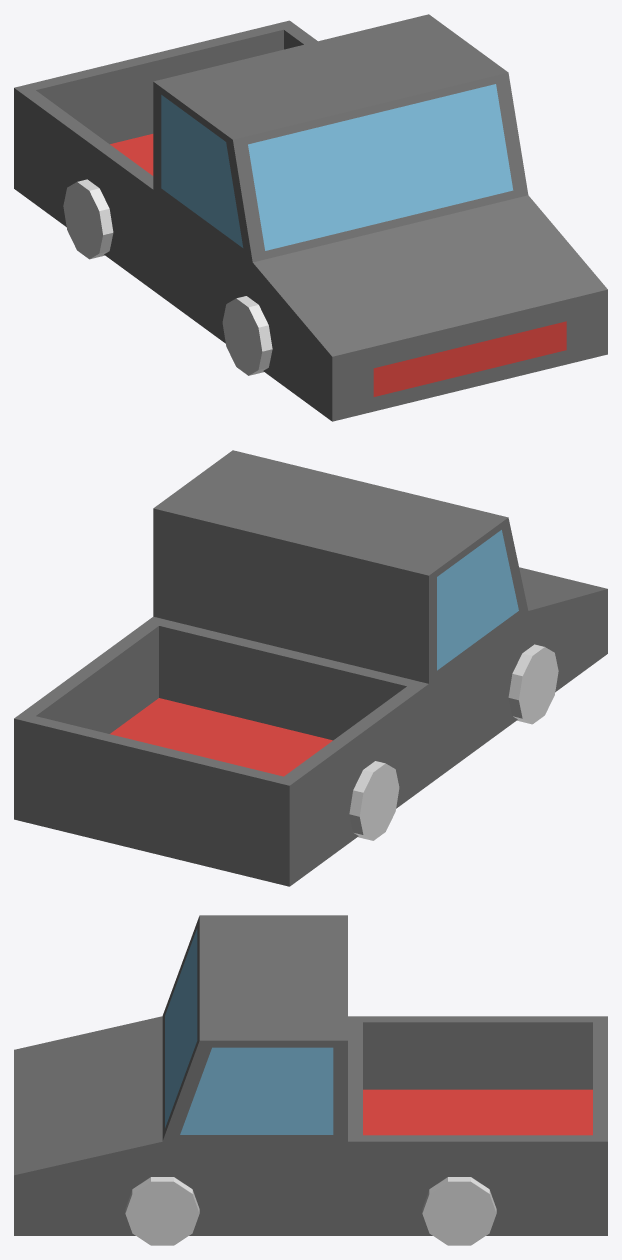
The model's file is 3D_Printer_TD_2_Car.fbx.
3 views of the same model, one above another, from view 1: azimuth 30°, elevation 25°; view 2: azimuth 150°, elevation 25°; view 3: azimuth 270°, elevation 25° (orthographic). The views are drawn at different scales.
Parts seen in each view (by area): view 1: Car_2; view 2: Car_2; view 3: Car_2.
Part boxes in pixels (x1,y1,x2,y2): Car_2: (14, 14, 607, 421); Car_2: (14, 450, 607, 886); Car_2: (14, 915, 607, 1245).
Size of the model in its own units: 430 by 298 by 800.
